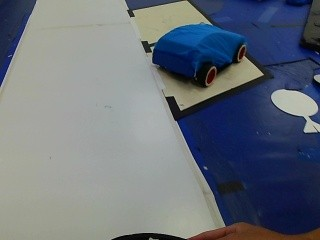car: (150, 22, 249, 89)
